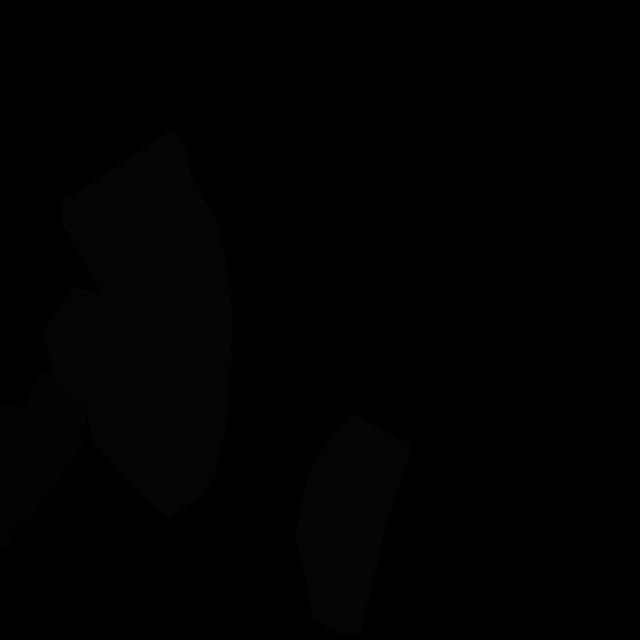cardboard: (0, 370, 86, 549)
soft_plastic: (42, 129, 232, 519), (295, 413, 412, 636)
